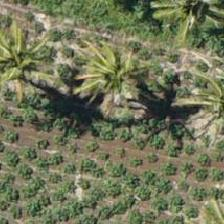coconut_tree: (59, 31, 149, 121), (0, 0, 58, 89)
